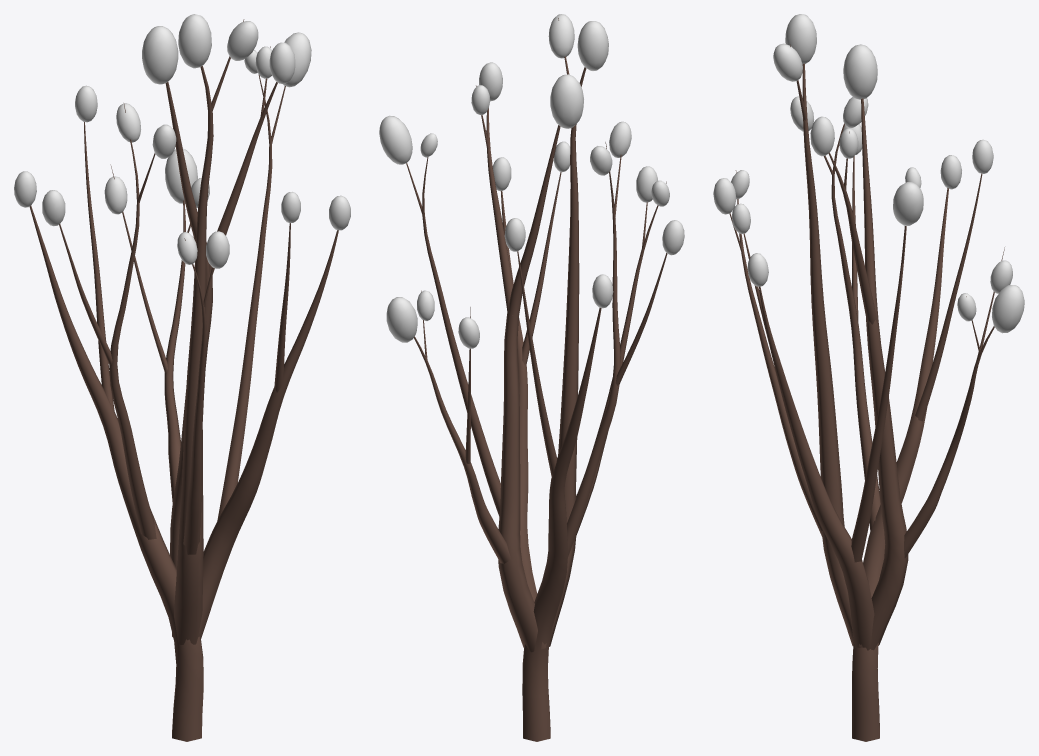
The model's file is Blubtree.fbx.
3 views of the same model, side by side, from view 1: azimuth 30°, elevation 25°; view 2: azimuth 150°, elevation 25°; view 3: azimuth 270°, elevation 25° (orthographic). The views are drawn at different scales.
Parts seen in each view (by area): view 1: tree, Sphere; view 2: tree, Sphere; view 3: tree, Sphere.
Boxes of the visible parts, left/top/right/bottom form: tree: left=29, top=19, right=338, bottom=741; Sphere: left=14, top=14, right=350, bottom=268; tree: left=406, top=18, right=667, bottom=741; Sphere: left=379, top=14, right=684, bottom=348; tree: left=729, top=44, right=1004, bottom=741; Sphere: left=713, top=14, right=1024, bottom=333.
Size of the model in its own units: 271 by 657 by 262.
